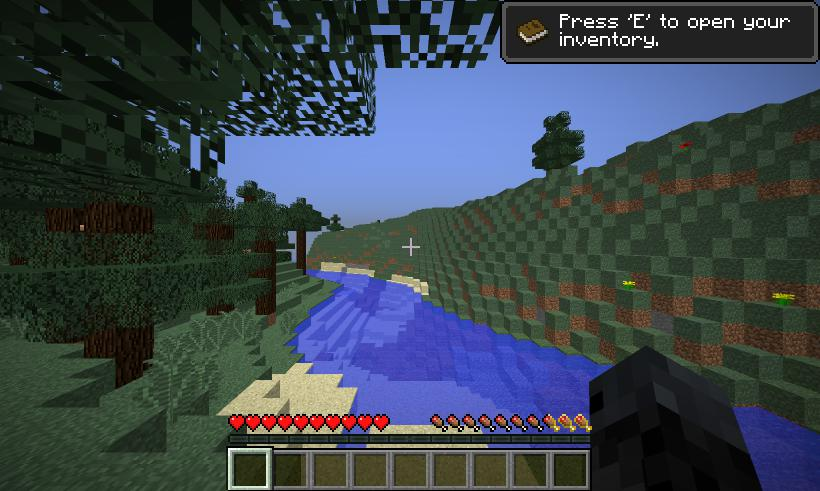minecraft-blocks: (86, 330, 155, 386), (257, 242, 277, 314), (298, 230, 306, 277), (209, 304, 236, 317)
